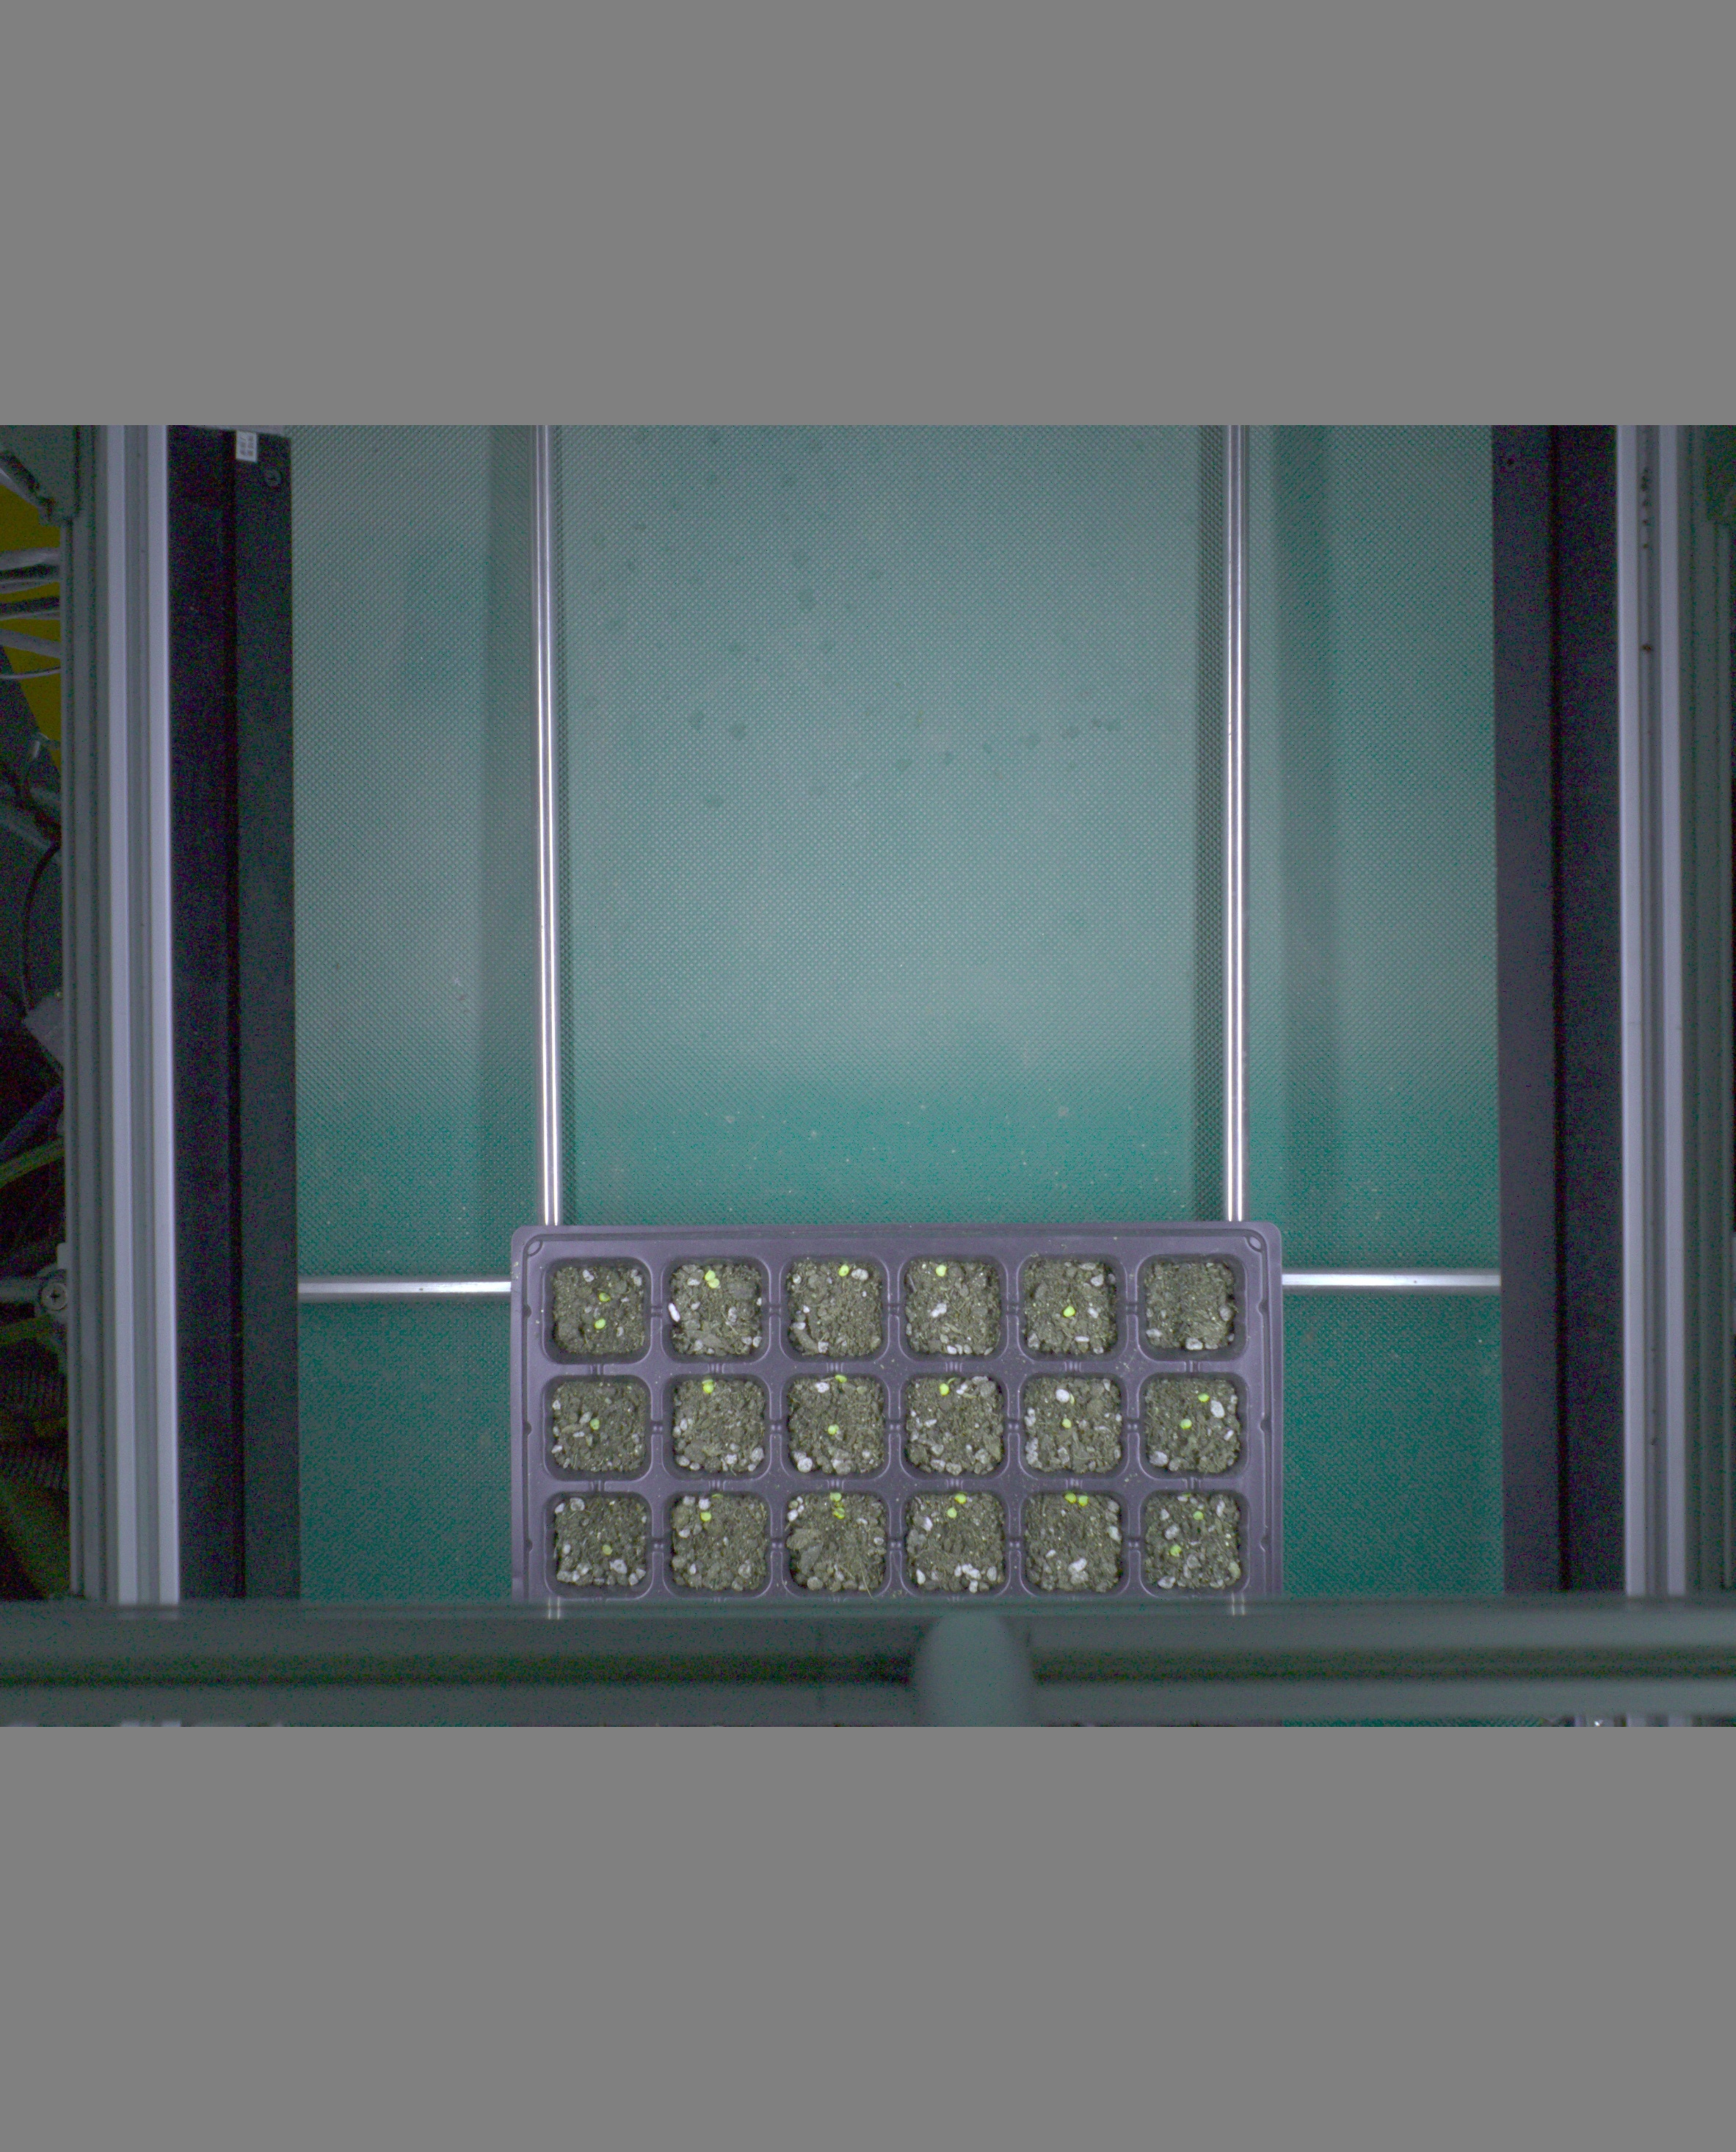chilli seed: (583, 703, 1736, 2133), (583, 742, 1736, 2152), (577, 763, 1736, 2152), (590, 749, 1736, 2152), (592, 691, 1736, 2094), (533, 742, 1623, 2152), (524, 701, 1596, 2133), (524, 739, 1601, 2152), (528, 687, 1607, 2094), (526, 646, 1601, 1966), (471, 740, 1438, 2152), (466, 747, 1424, 2152), (466, 684, 1424, 2071), (464, 685, 1414, 2079), (461, 625, 1408, 1902), (411, 707, 1251, 2140), (409, 707, 1245, 2141), (409, 742, 1256, 2152), (407, 740, 1251, 2152), (409, 747, 1254, 2152), (411, 682, 1258, 2065), (413, 625, 1263, 1902), (347, 742, 1072, 2152), (344, 751, 1056, 2152), (345, 685, 1061, 2079), (344, 685, 1058, 2071), (347, 632, 1068, 1922), (347, 629, 1063, 1909), (289, 703, 889, 2134), (296, 765, 909, 2152), (291, 652, 896, 1984), (292, 641, 905, 1943)
plate: (0, 429, 1153, 2024)
